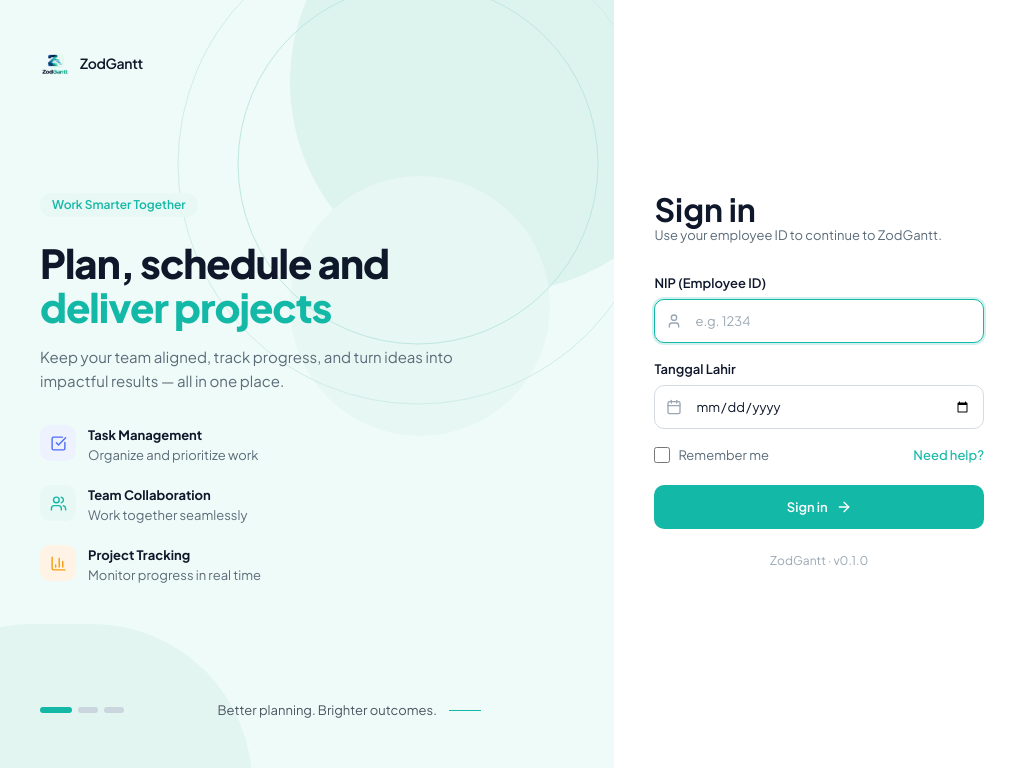
Test: LoginPage › shows the error alert on ApiError
The image size is (1024, 768).
In the field labelled "NIP (Employee ID)": (819, 321) left=654, top=299, right=984, bottom=343, type "1234"
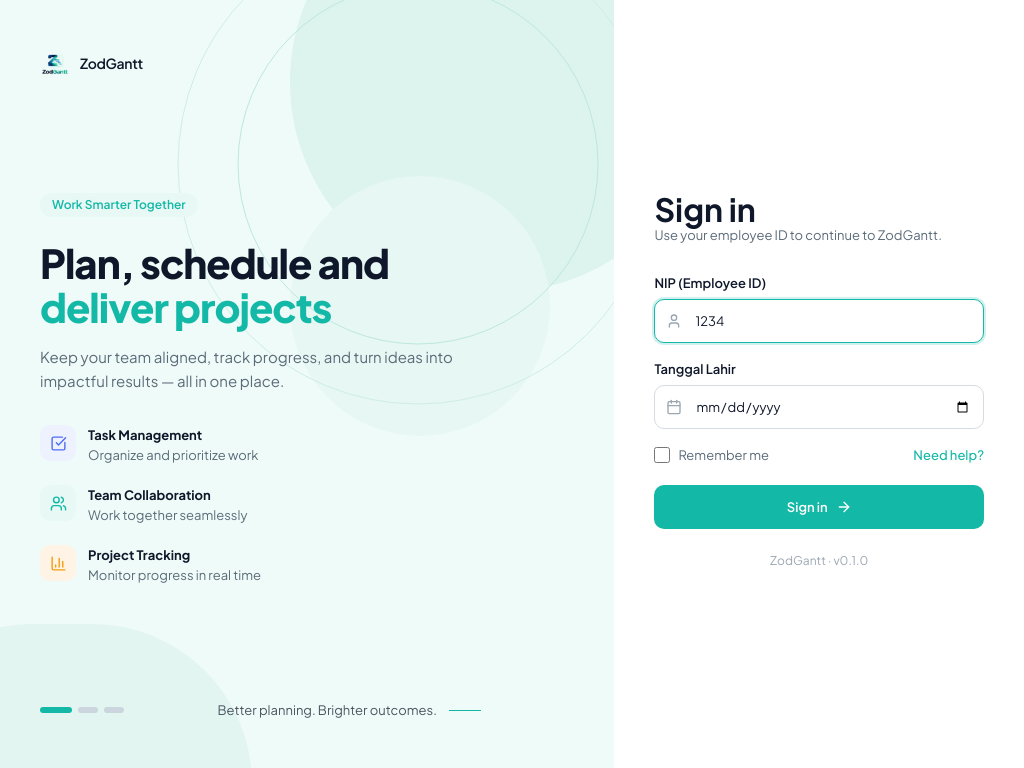
In the date field labelled "Tanggal Lahir": (819, 407) left=654, top=385, right=984, bottom=429, type "1990-01-01"
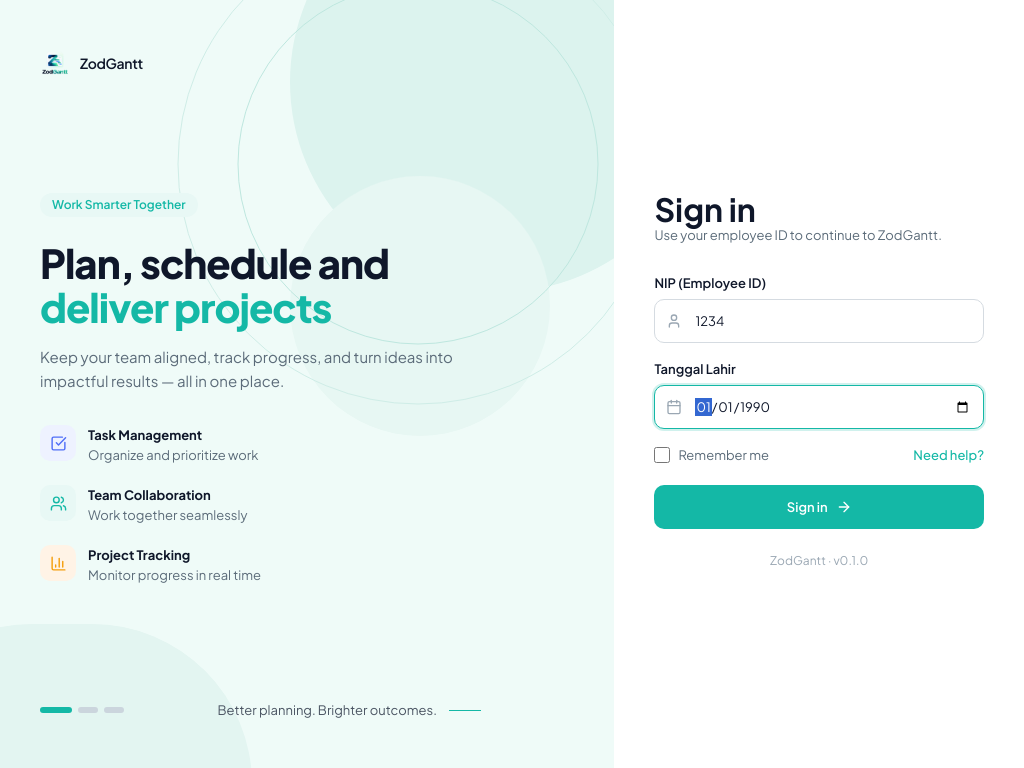
Click the button "Sign in": (819, 507) left=654, top=485, right=984, bottom=529
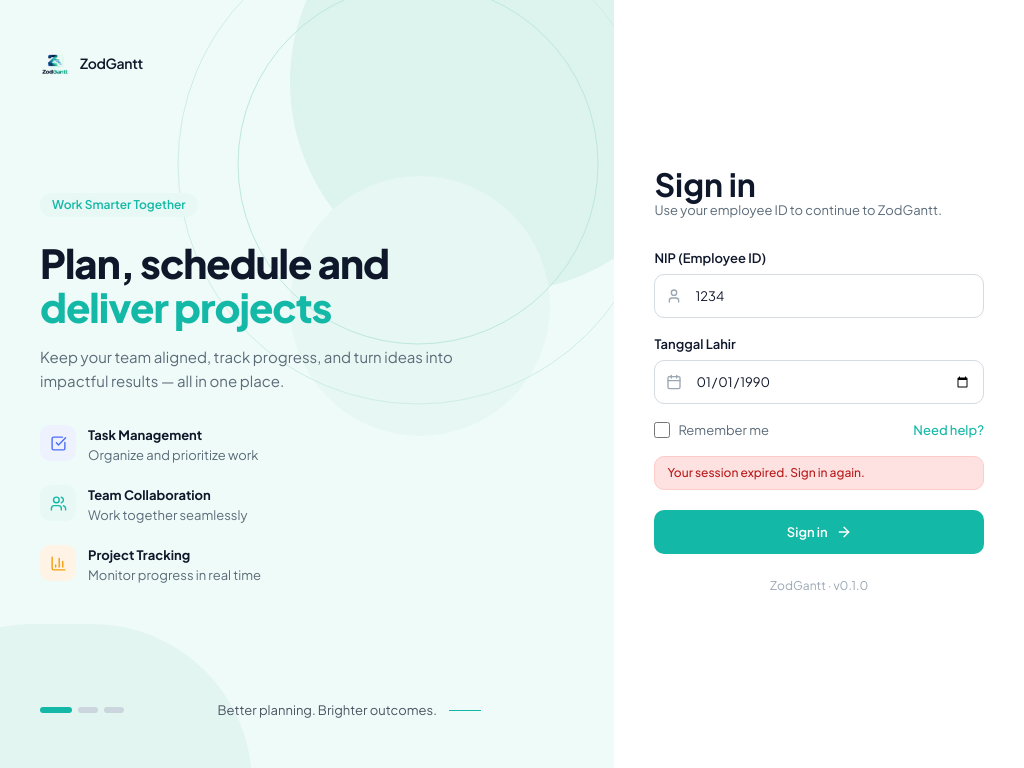
Check: the message reads "Your session expired. Sign in again.", box left=667, top=465, right=865, bottom=480
